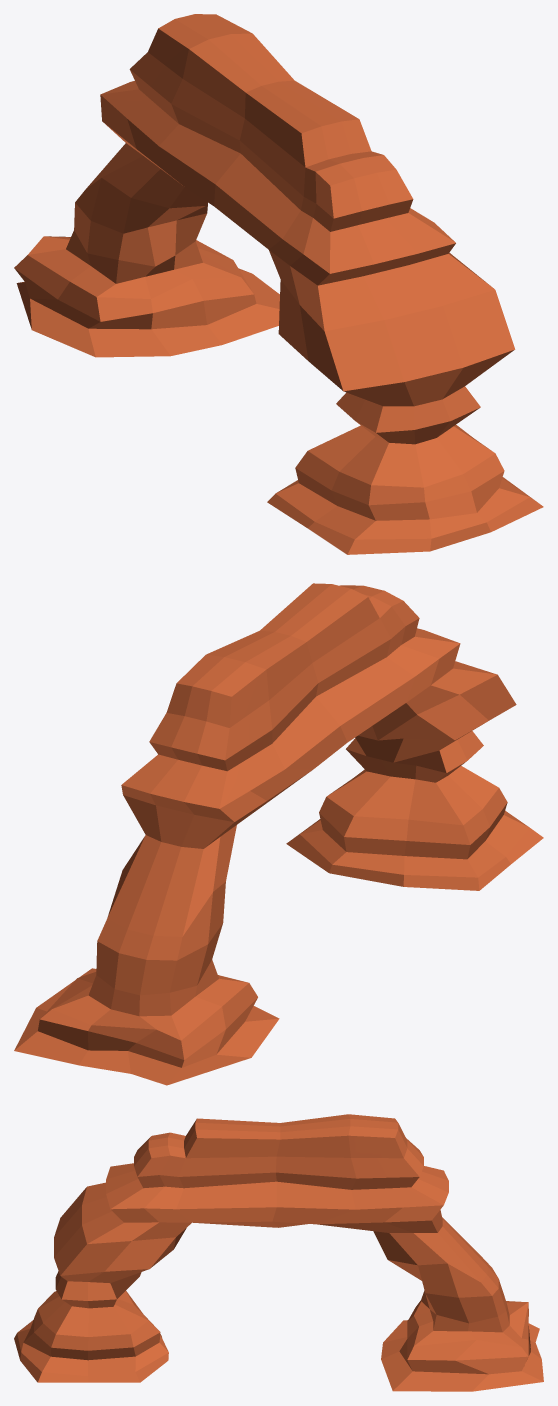
The model's file is stoneArch.fbx.
3 renders of one model, top to bottom at view 1: azimuth 30°, elevation 25°; view 2: azimuth 150°, elevation 25°; view 3: azimuth 270°, elevation 25°, orthographic. The views are drawn at different scales.
Parts seen in each view (by area): view 1: Plane; view 2: Plane; view 3: Plane.
Boxes of the visible parts, x1,y1,x2,y2 form: Plane: (14,14,543,554); Plane: (14,583,543,1085); Plane: (14,1114,543,1391).
Size of the model in its own units: 725 by 1016 by 2136.
